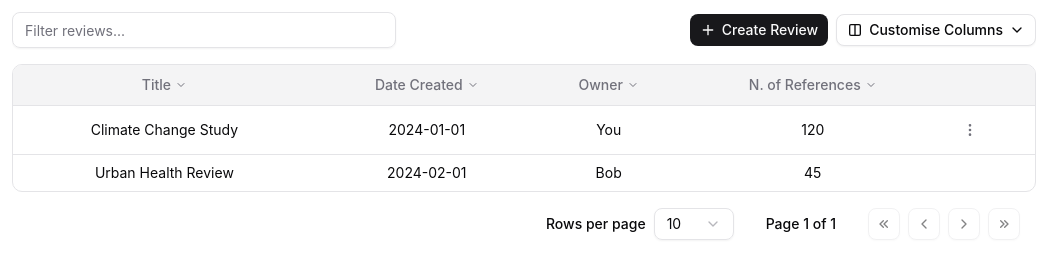
it: Components - ReviewsTable › should filter rows by title
Type "Climate" into the field with placeholder "Filter reviews..." at (204, 30), box [12,12,396,48]
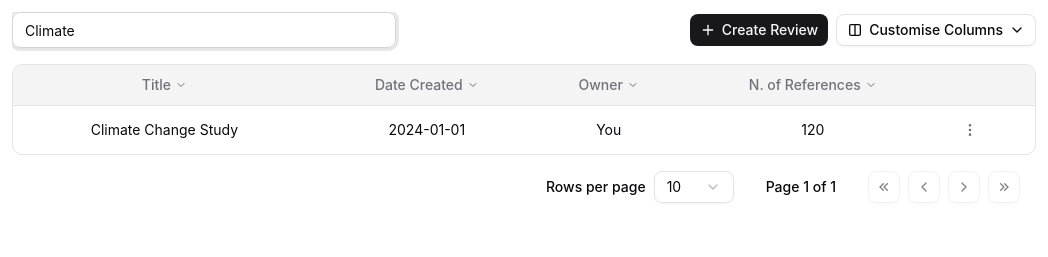
Expected: the text "Climate Change Study" is shown, [13,105,316,154]
Expected: the text "Urban Health Review" is gone
